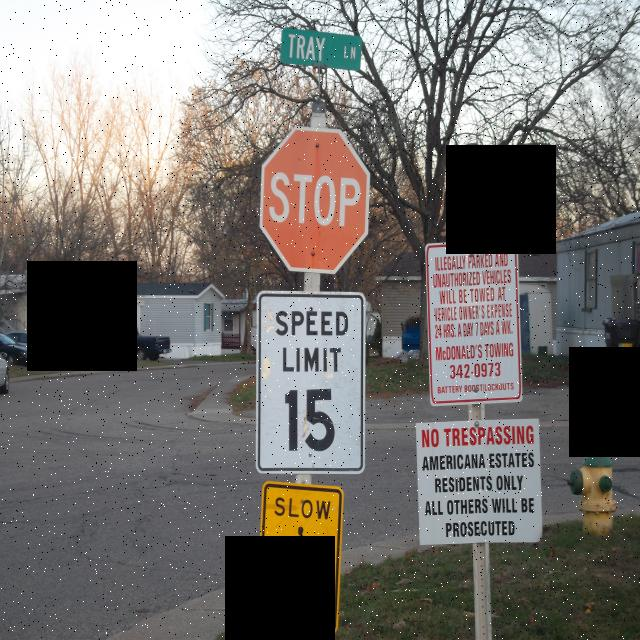regulatory: (258, 294, 365, 470), (422, 237, 524, 409)
stop: (260, 124, 370, 276)
